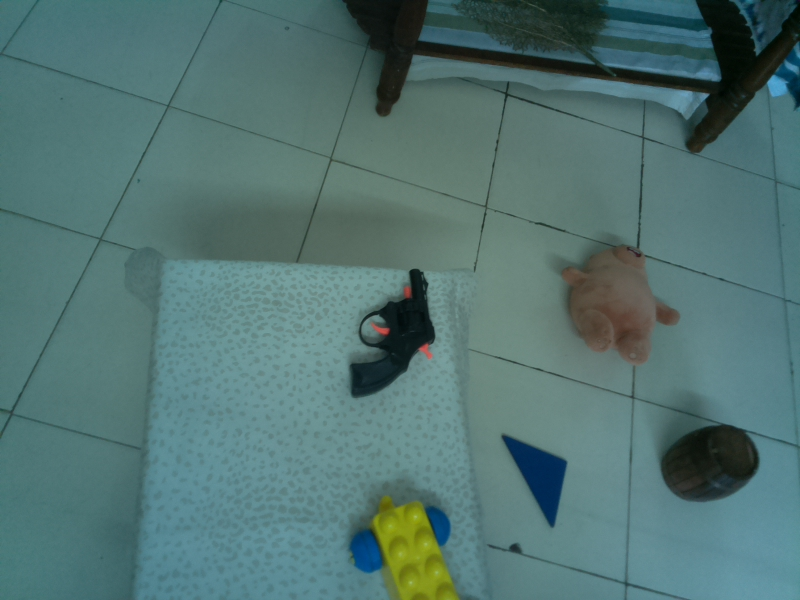Gun: (347, 268, 437, 401)
Triangle: (499, 432, 570, 529)
toy_Car: (349, 493, 459, 598)
